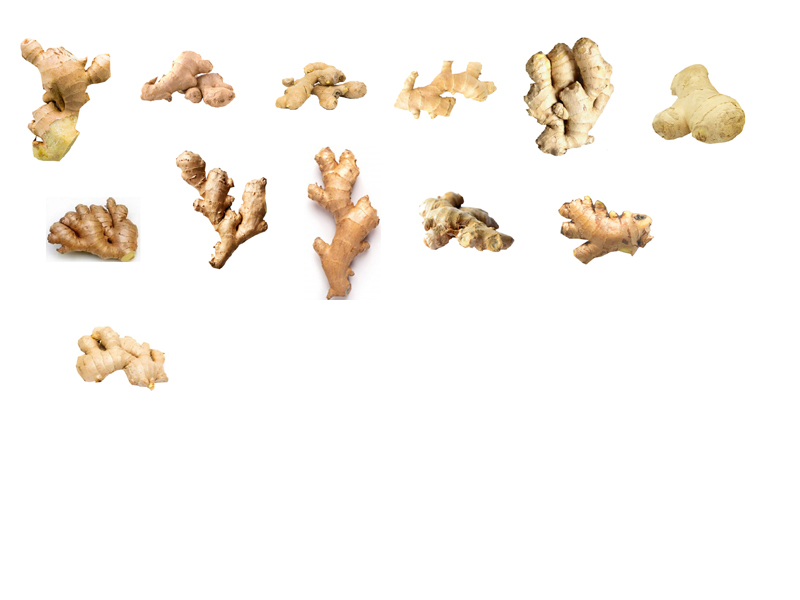ginger: (297, 144, 387, 303), (170, 146, 277, 273), (16, 31, 117, 165), (519, 34, 617, 154), (411, 185, 518, 268), (650, 58, 745, 150), (547, 192, 654, 265), (43, 194, 142, 270), (391, 55, 501, 121), (74, 324, 174, 394), (137, 44, 238, 110), (271, 58, 368, 114)
